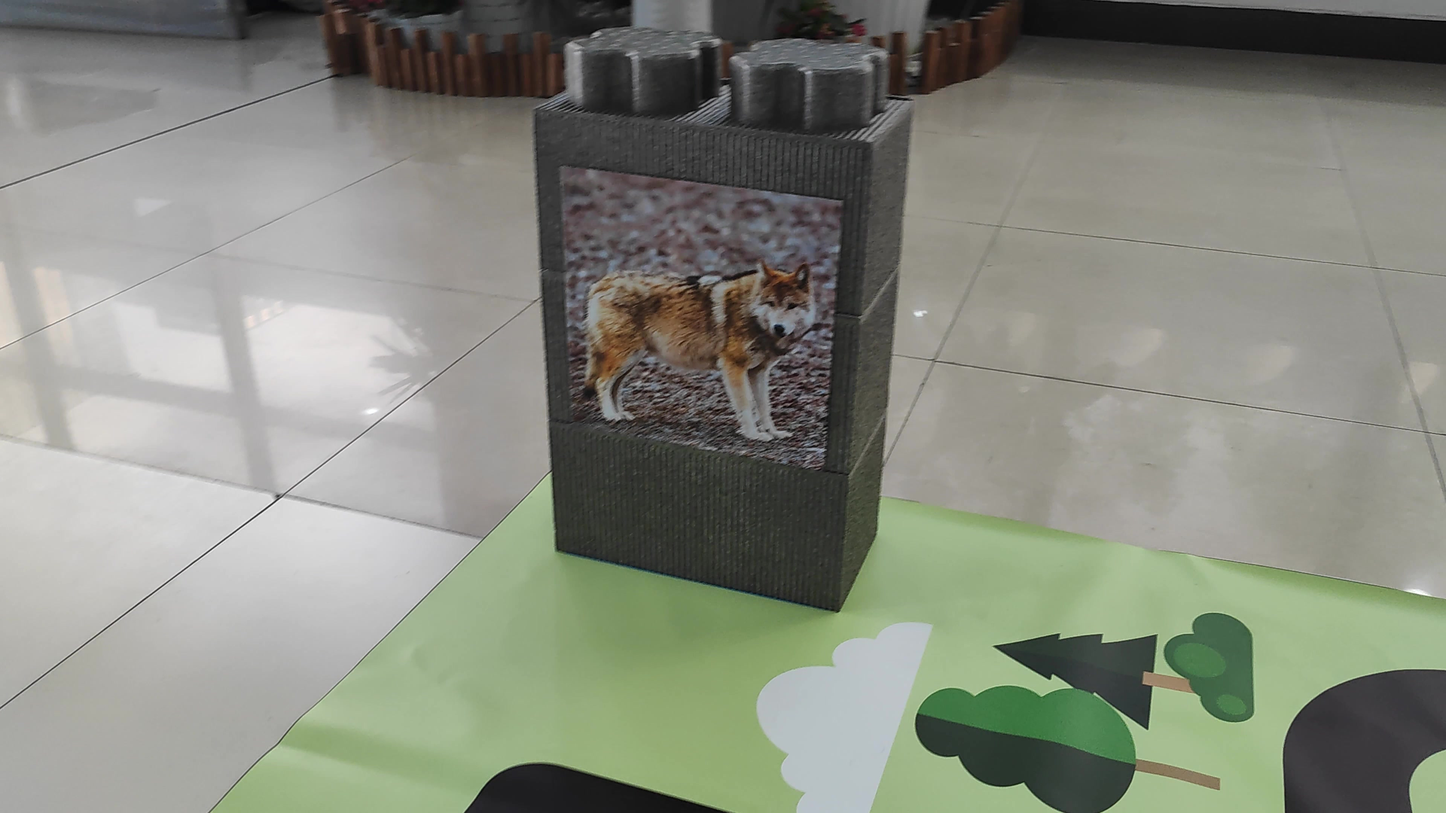wolf: (563, 227, 833, 457)
